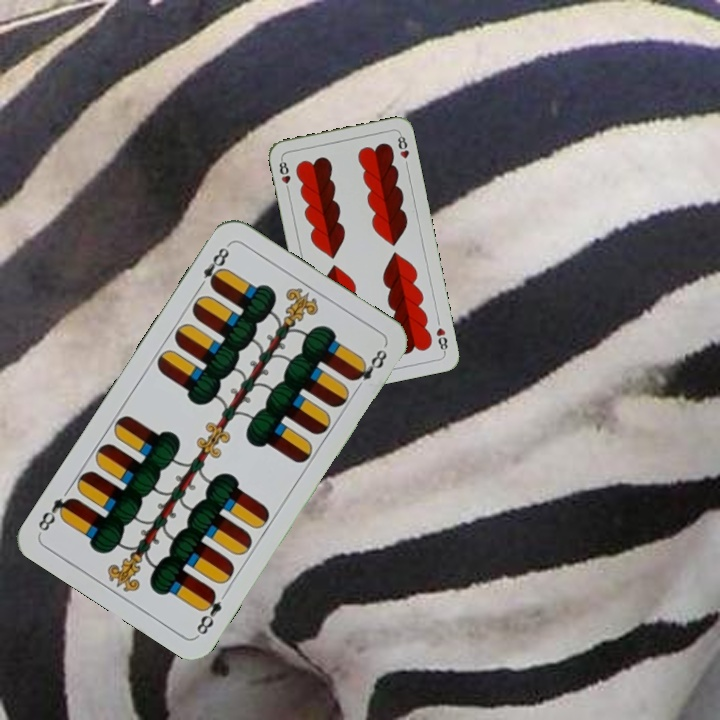E8: (193, 241, 232, 293), (192, 586, 225, 638)
H8: (275, 155, 293, 195), (432, 323, 450, 355)
